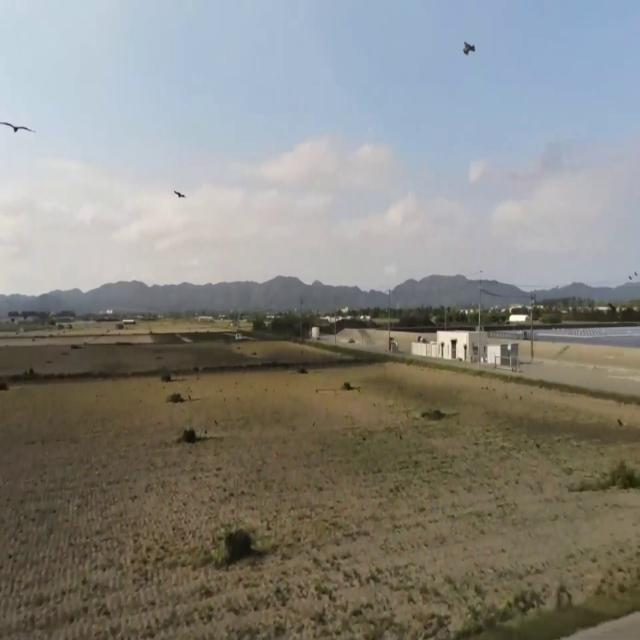bird: (1, 106, 34, 152), (462, 29, 476, 67), (172, 180, 186, 212)
